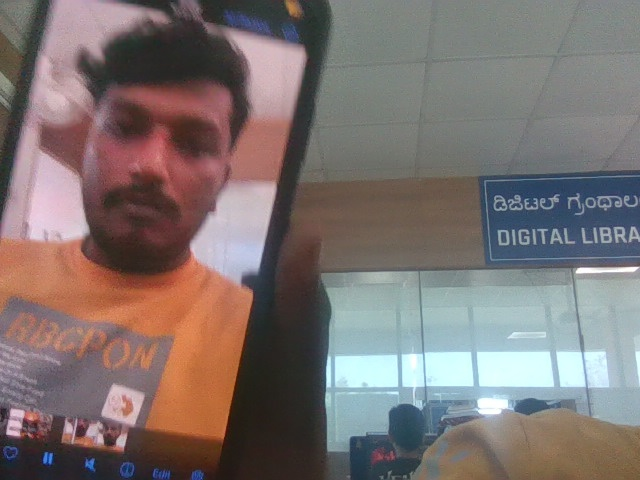fake: (59, 0, 259, 283)
